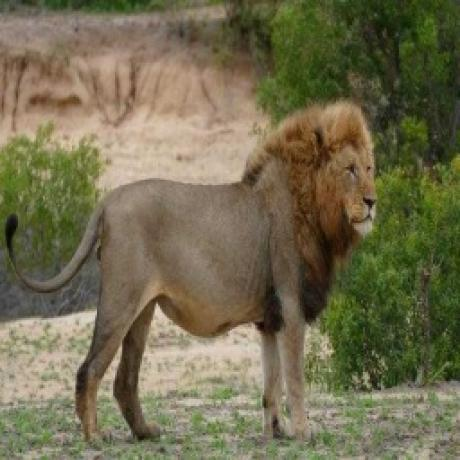Lion: (0, 102, 381, 441)
